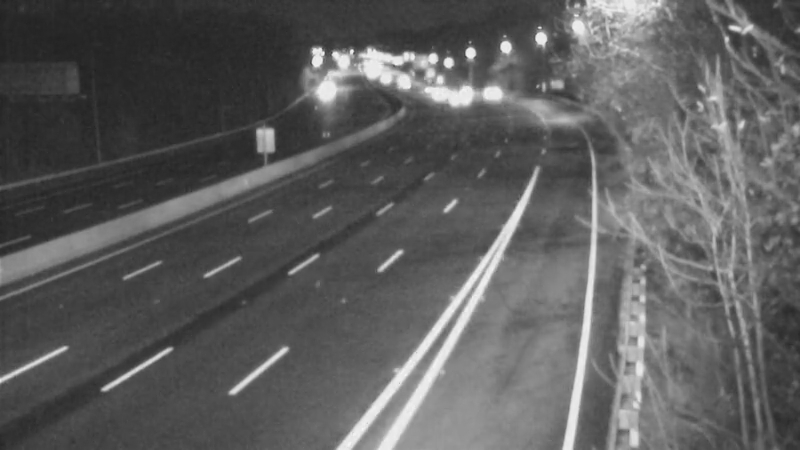vehicle: (438, 65, 488, 115), (467, 68, 517, 118), (424, 71, 474, 121)
